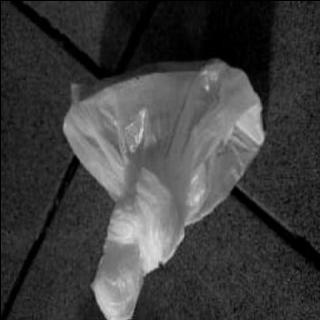objects: (60, 58, 265, 320)
